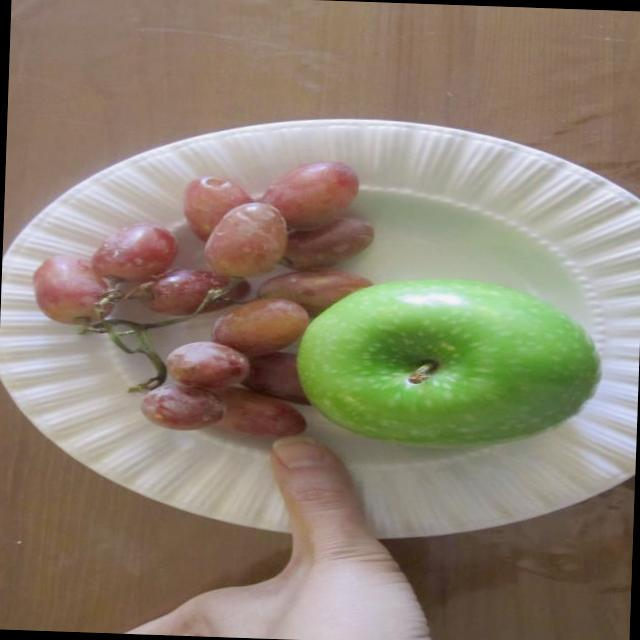Apple: (297, 270, 611, 454)
Finger: (256, 434, 388, 528)
Grapes: (19, 145, 309, 427)
